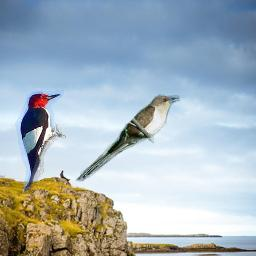Cuckoo: (75, 94, 182, 185)
Woodpecker: (11, 86, 66, 193)
